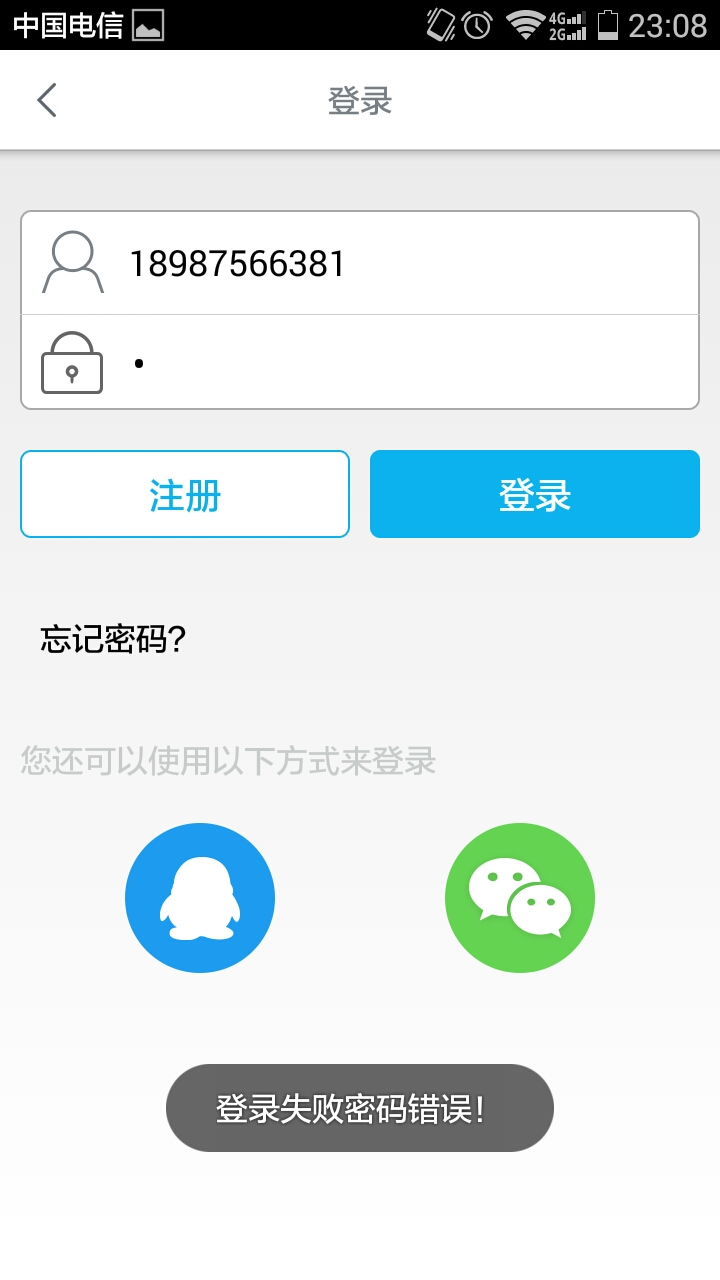alert: (162, 1058, 563, 1157)
button: (12, 444, 351, 544)
textview: (21, 204, 709, 422)
